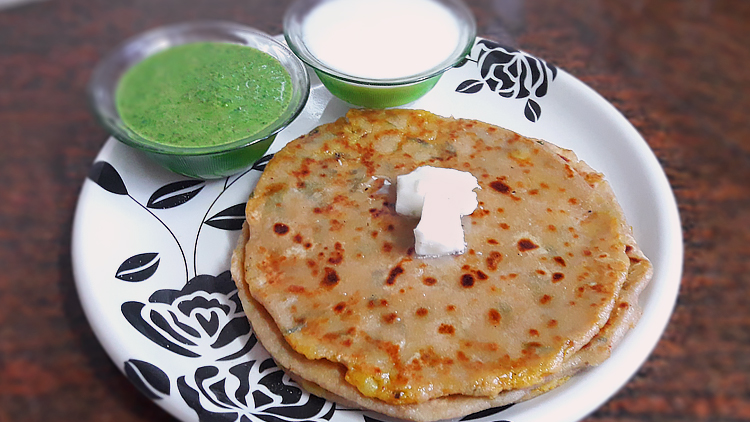aloo_paratha: (234, 106, 653, 422)
